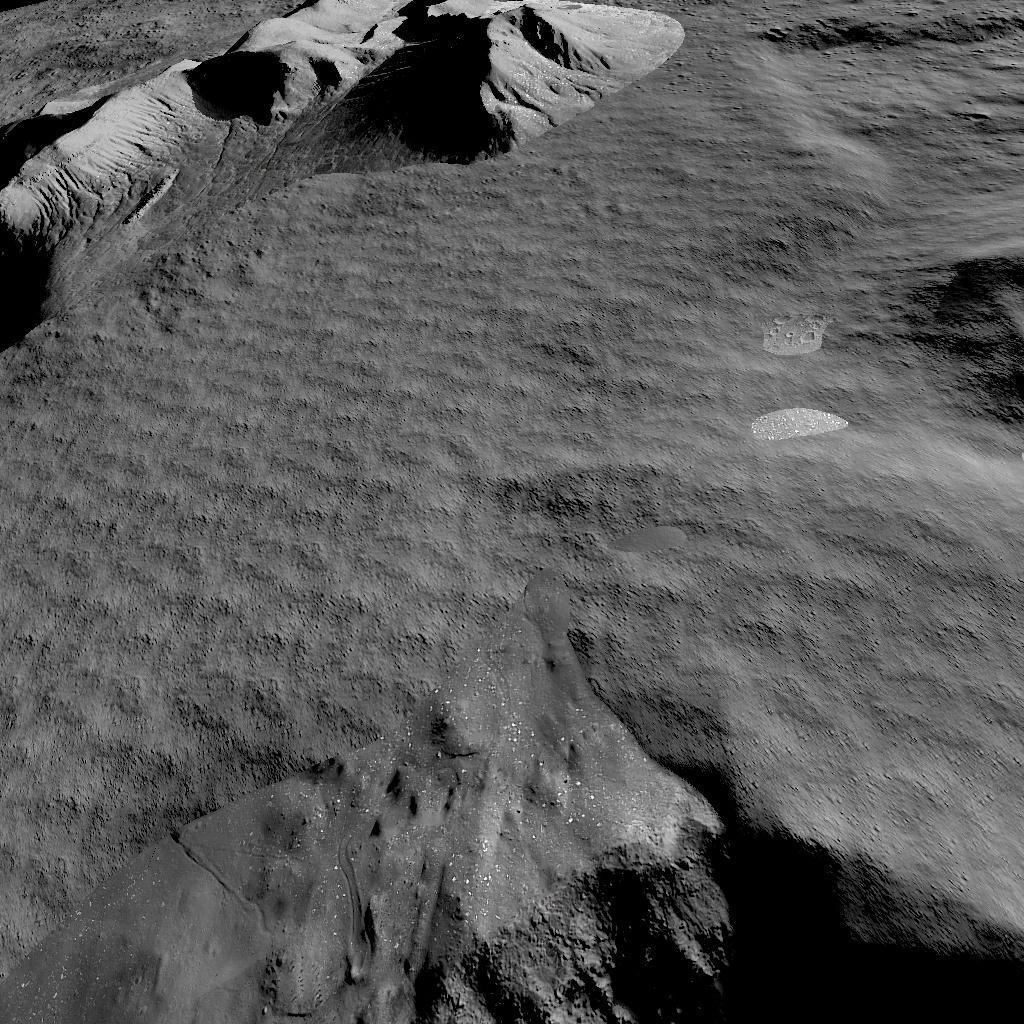Boulders: (0, 0, 685, 348)
Crater: (0, 562, 1024, 1024), (938, 248, 1024, 428)
Plan surface: (0, 362, 927, 550)
